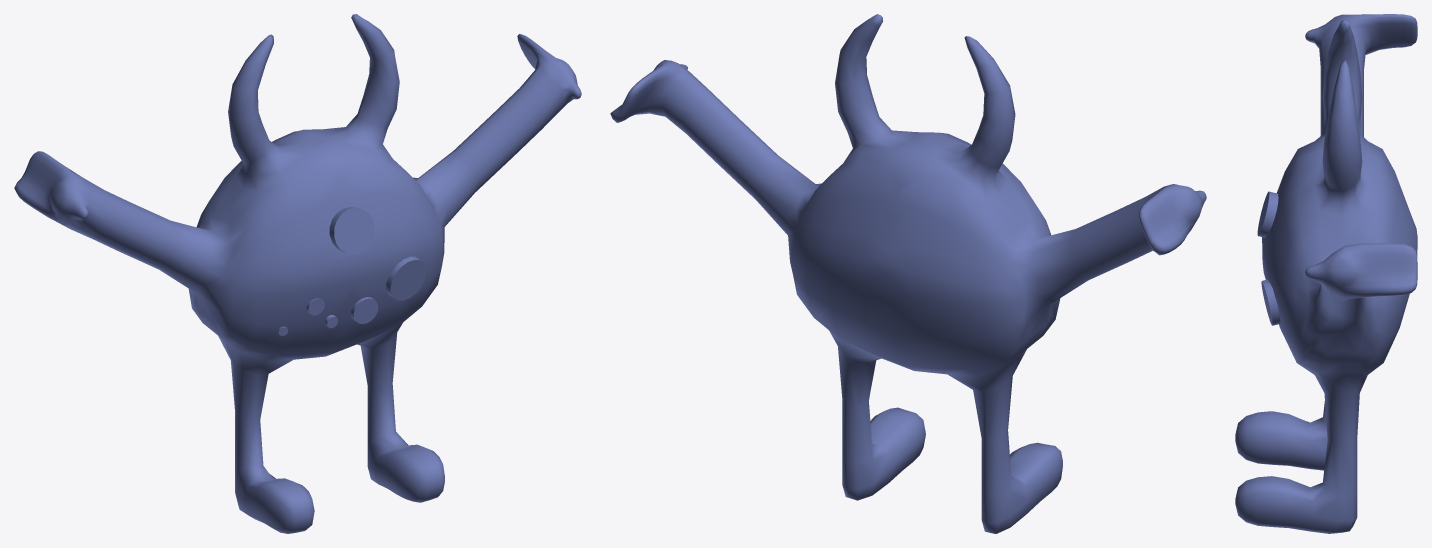
Rendered from Player_test_01.FBX.
The picture shows the model from 3 angles, left to right: view 1: azimuth 30°, elevation 25°; view 2: azimuth 150°, elevation 25°; view 3: azimuth 270°, elevation 25°; orthographic projection. The views are drawn at different scales.
Visible parts, largest first — view 1: Cylinder002; view 2: Cylinder002; view 3: Cylinder002.
Boxes of the visible parts, x1,y1,x2,y2 form: Cylinder002: [14, 14, 581, 533]; Cylinder002: [610, 14, 1206, 533]; Cylinder002: [1235, 14, 1417, 533].
Size of the model in its own units: 138 by 116 by 41.66.
